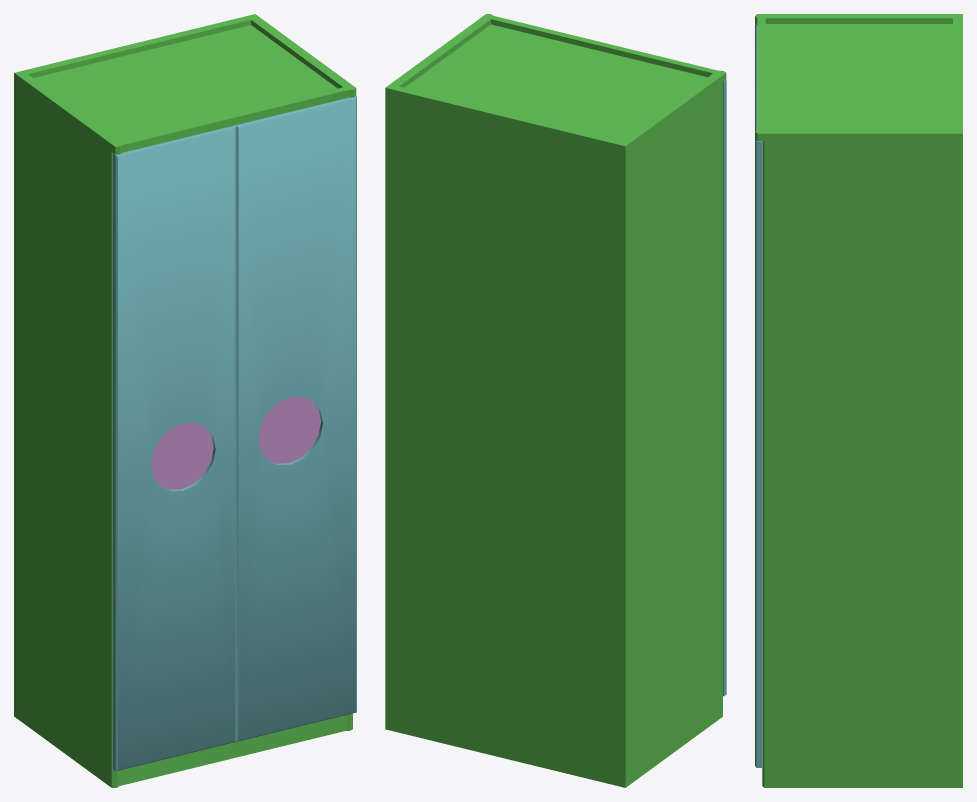
File: DISNEYCH03.FBX
3 views of the same model, side by side, from view 1: azimuth 30°, elevation 25°; view 2: azimuth 150°, elevation 25°; view 3: azimuth 270°, elevation 25° (orthographic).
Visible parts, largest first — view 1: DISNEYCH03; view 2: DISNEYCH03; view 3: DISNEYCH03.
Boxes of the visible parts, left/top/right/bottom form: DISNEYCH03: left=14, top=14, right=356, bottom=787; DISNEYCH03: left=385, top=14, right=726, bottom=787; DISNEYCH03: left=755, top=14, right=962, bottom=787.
Size of the model in its own units: 78.4 by 57.6 by 200.
